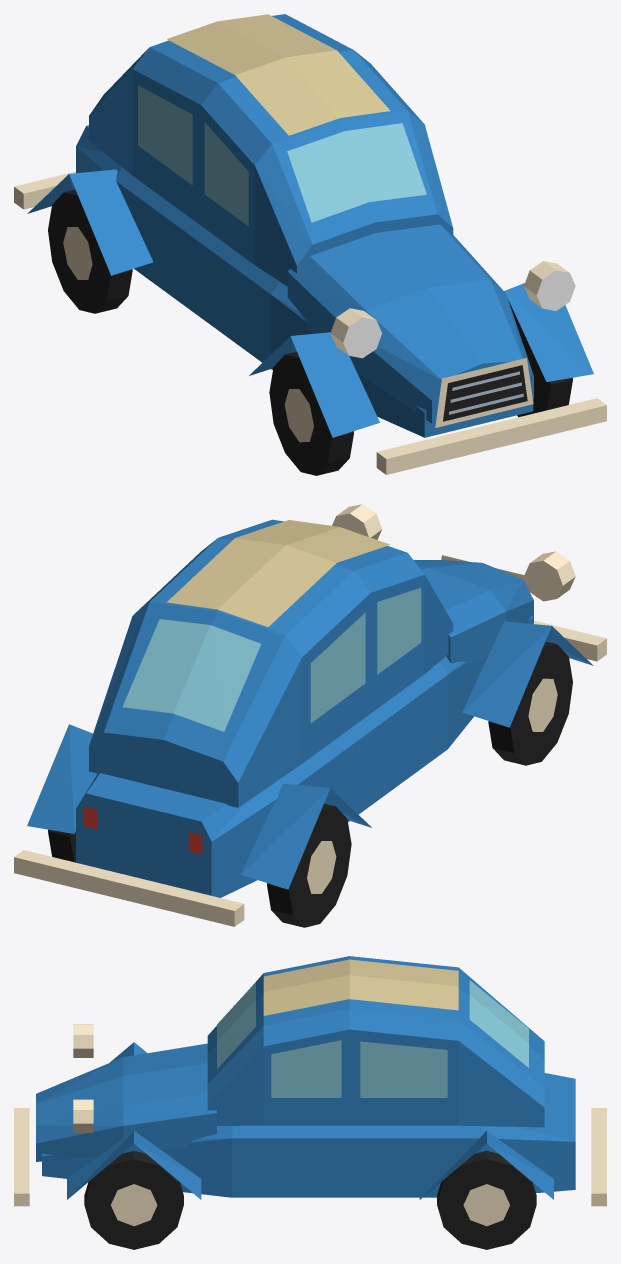
The model's file is car_2cv.obj.
The picture shows the model from 3 angles, top to bottom: view 1: azimuth 30°, elevation 25°; view 2: azimuth 150°, elevation 25°; view 3: azimuth 270°, elevation 25°; orthographic projection. The views are drawn at different scales.
Visible parts, largest first — view 1: arched_cabin, curved_bonnet, lower_body, canvas_roof, windscreen, front_bumper, left_front_wing, left_rear_wing, left_front_wheel, left_rear_wheel, right_front_wing, left_rear_door_window (+10 smaller); view 2: arched_cabin, lower_body, canvas_roof, rear_window, curved_bonnet, rear_bumper, left_front_wing, left_rear_wing, left_rear_wheel, left_front_wheel, right_rear_wing, left_rear_door_window (+7 smaller); view 3: arched_cabin, lower_body, curved_bonnet, canvas_roof, right_front_wheel, right_rear_wheel, right_rear_door_window, right_front_door_window, rear_window, right_front_wing, right_rear_wing, windscreen (+6 smaller).
Boxes of the visible parts, box(x1,y1,x2,y2) form: arched_cabin: box(89, 14, 453, 286); curved_bonnet: box(287, 224, 533, 423); lower_body: box(76, 125, 533, 437); canvas_roof: box(167, 14, 390, 135); windscreen: box(287, 123, 426, 222); front_bumper: box(376, 398, 606, 474); left_front_wing: box(249, 332, 379, 437); left_rear_wing: box(27, 169, 153, 275); left_front_wheel: box(269, 351, 353, 475); left_rear_wheel: box(48, 189, 132, 313); right_front_wing: box(504, 283, 593, 381); left_rear_door_window: box(138, 85, 192, 185); arched_cabin: box(89, 519, 453, 807); lower_body: box(76, 615, 533, 897); canvas_roof: box(166, 520, 390, 626); rear_window: box(122, 619, 261, 731); curved_bonnet: box(413, 560, 533, 666); rear_bumper: box(14, 850, 244, 926); left_front_wing: box(462, 621, 593, 727); left_rear_wing: box(241, 783, 371, 889); left_rear_wheel: box(267, 803, 351, 927); left_front_wheel: box(488, 641, 572, 765); right_rear_wing: box(27, 724, 97, 833); left_rear_door_window: box(310, 612, 365, 723); arched_cabin: box(207, 956, 544, 1127); lower_body: box(42, 1073, 575, 1197); curved_bonnet: box(36, 1043, 216, 1161); canvas_roof: box(263, 959, 458, 1015); right_front_wheel: box(84, 1151, 183, 1249); right_rear_wheel: box(437, 1151, 536, 1249); right_rear_door_window: box(360, 1041, 447, 1097); right_front_door_window: box(271, 1040, 341, 1097); rear_window: box(469, 980, 528, 1067); right_front_wing: box(67, 1131, 201, 1199); right_rear_wing: box(419, 1131, 553, 1199); windscreen: box(217, 982, 255, 1068).
Bounding box in the file's own units: 1.54 × 1.61 × 3.8.
